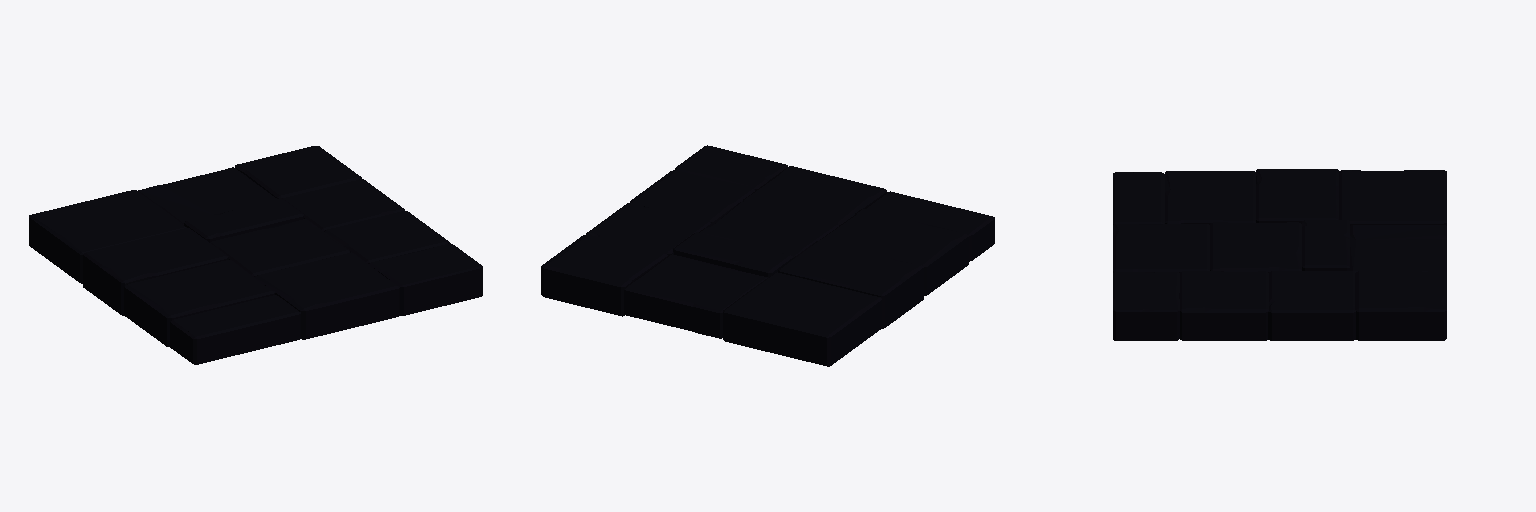
Rendered from Floor_Modular.obj.
3 renders of one model, left to right at view 1: azimuth 30°, elevation 25°; view 2: azimuth 150°, elevation 25°; view 3: azimuth 270°, elevation 25°, orthographic.
Parts seen in each view (by area): view 1: Floor_Modular_Cube.031; view 2: Floor_Modular_Cube.031; view 3: Floor_Modular_Cube.031.
Part boxes in pixels (x1,y1,x2,y2): Floor_Modular_Cube.031: (29,146,482,364); Floor_Modular_Cube.031: (541,145,994,366); Floor_Modular_Cube.031: (1113,169,1446,340).
Size of the model in its own units: 2 by 0.2503 by 2.